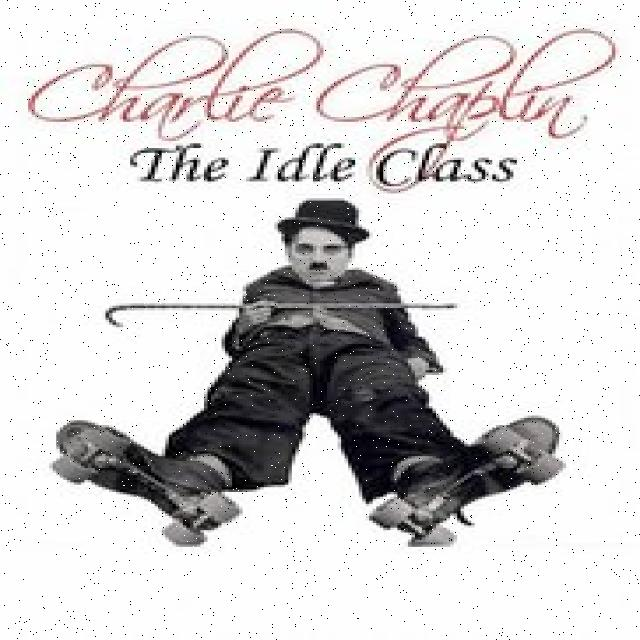movie-judul: (27, 20, 628, 222)
picture: (47, 186, 581, 565)
